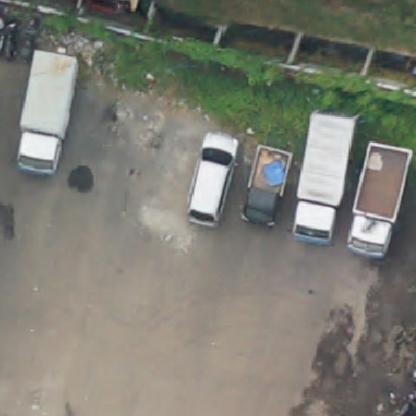car: (190, 126, 235, 230)
truck: (10, 46, 80, 174), (350, 142, 410, 257), (300, 110, 350, 246), (243, 142, 292, 238)
